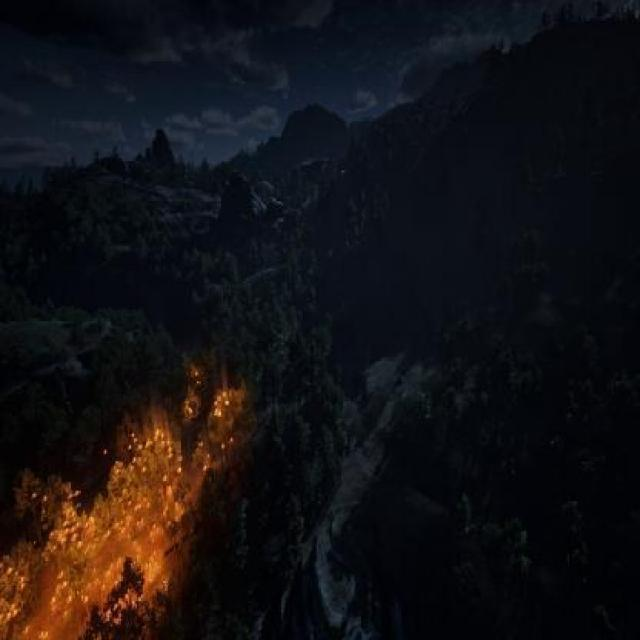Fire: (0, 353, 258, 640)
